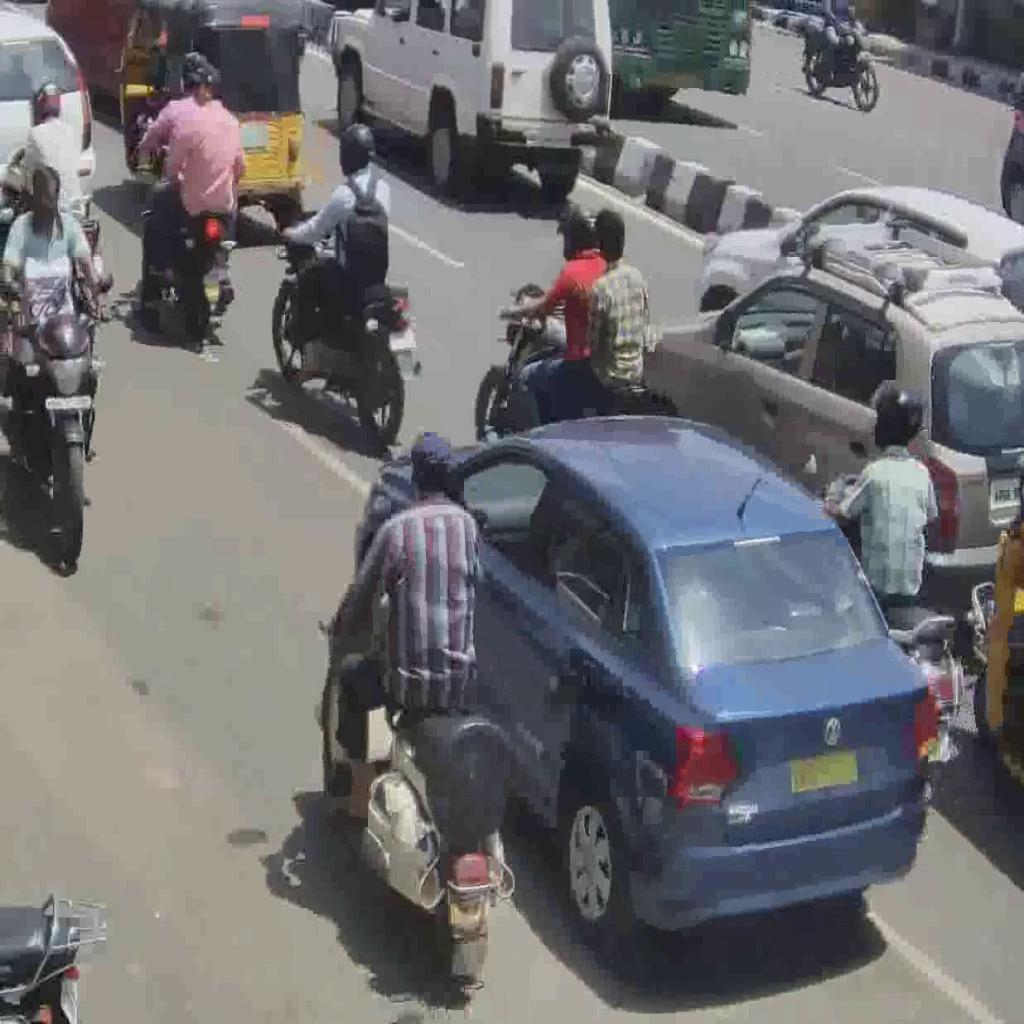helmet: (315, 550, 514, 984), (272, 207, 424, 447), (0, 266, 112, 562), (474, 280, 666, 439), (137, 135, 236, 341)
